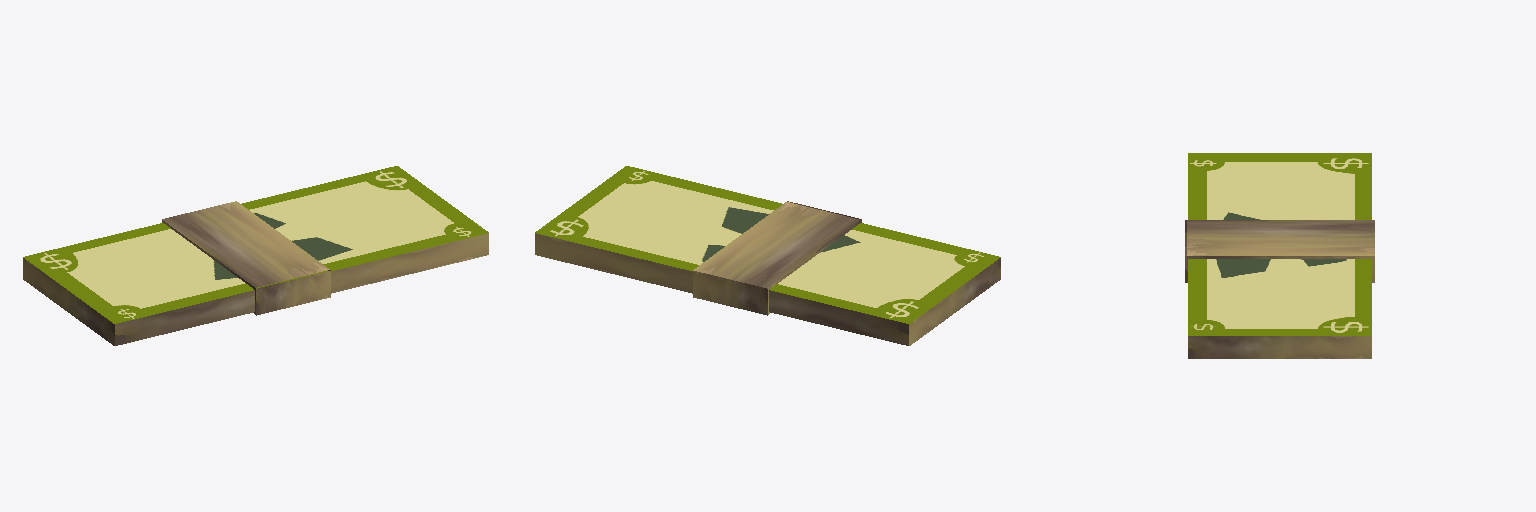
The picture shows the model from 3 angles: view 1: azimuth 30°, elevation 25°; view 2: azimuth 150°, elevation 25°; view 3: azimuth 270°, elevation 25°; orthographic projection.
Visible parts, largest first — view 1: Cube, Cube.001_Cube.002; view 2: Cube, Cube.001_Cube.002; view 3: Cube, Cube.001_Cube.002.
Boxes of the visible parts, <box> form: Cube: <box>23,166,488,345</box>; Cube.001_Cube.002: <box>162,201,330,315</box>; Cube: <box>535,166,1000,345</box>; Cube.001_Cube.002: <box>693,201,861,315</box>; Cube: <box>1188,153,1371,358</box>; Cube.001_Cube.002: <box>1185,220,1374,282</box>.
Size of the model in its own units: 0.16 by 0.011 by 0.07.
Materials: 1 (1 with a texture image).